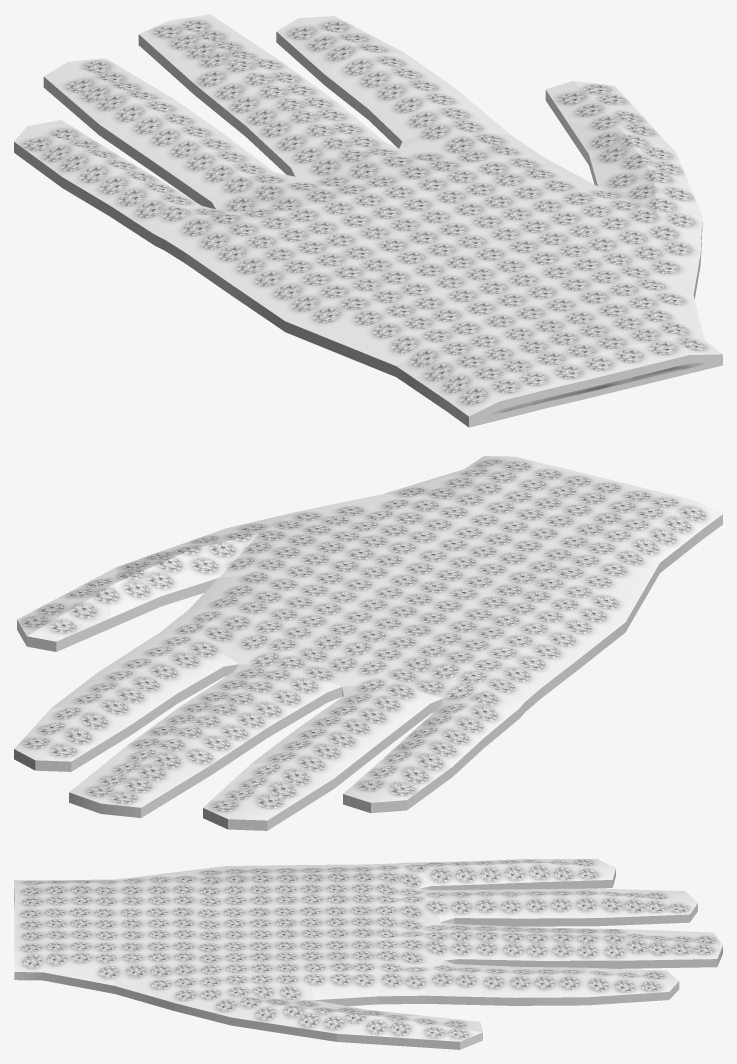
File: Glove.fbx
3 renders of one model, top to bottom at view 1: azimuth 30°, elevation 25°; view 2: azimuth 150°, elevation 25°; view 3: azimuth 270°, elevation 25°, orthographic. The views are drawn at different scales.
Visible parts, largest first — view 1: pPlane1; view 2: pPlane1; view 3: pPlane1.
Boxes of the visible parts, x1,y1,x2,y2 form: pPlane1: (14, 14, 722, 427); pPlane1: (14, 456, 722, 830); pPlane1: (14, 859, 722, 1049).
Bounding box in the file's own units: 1.1 × 0.0435 × 1.8.
Materials: 1 (1 with a texture image).
